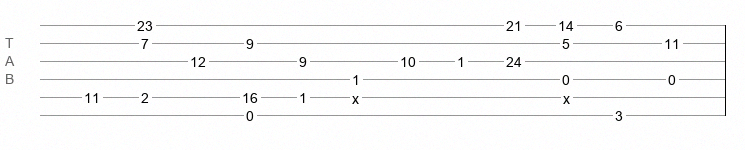0: (246, 108, 254, 118), (562, 72, 570, 82), (668, 72, 676, 82)
1: (299, 90, 307, 100), (352, 72, 360, 82), (457, 54, 465, 64)
10: (400, 54, 416, 64)
11: (84, 90, 100, 100), (664, 36, 680, 46)
12: (190, 54, 206, 64)
14: (558, 18, 574, 28)
16: (242, 90, 258, 100)
2: (141, 90, 149, 100)
21: (506, 18, 522, 28)
23: (137, 18, 153, 28)
24: (506, 54, 522, 64)
3: (615, 108, 623, 118)
5: (562, 36, 570, 46)
6: (615, 18, 623, 28)
7: (141, 36, 149, 46)
9: (246, 36, 254, 46), (299, 54, 307, 64)
x: (352, 91, 359, 99), (563, 91, 570, 99)
